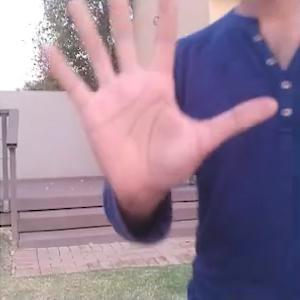follow_hand: (40, 0, 279, 212)
